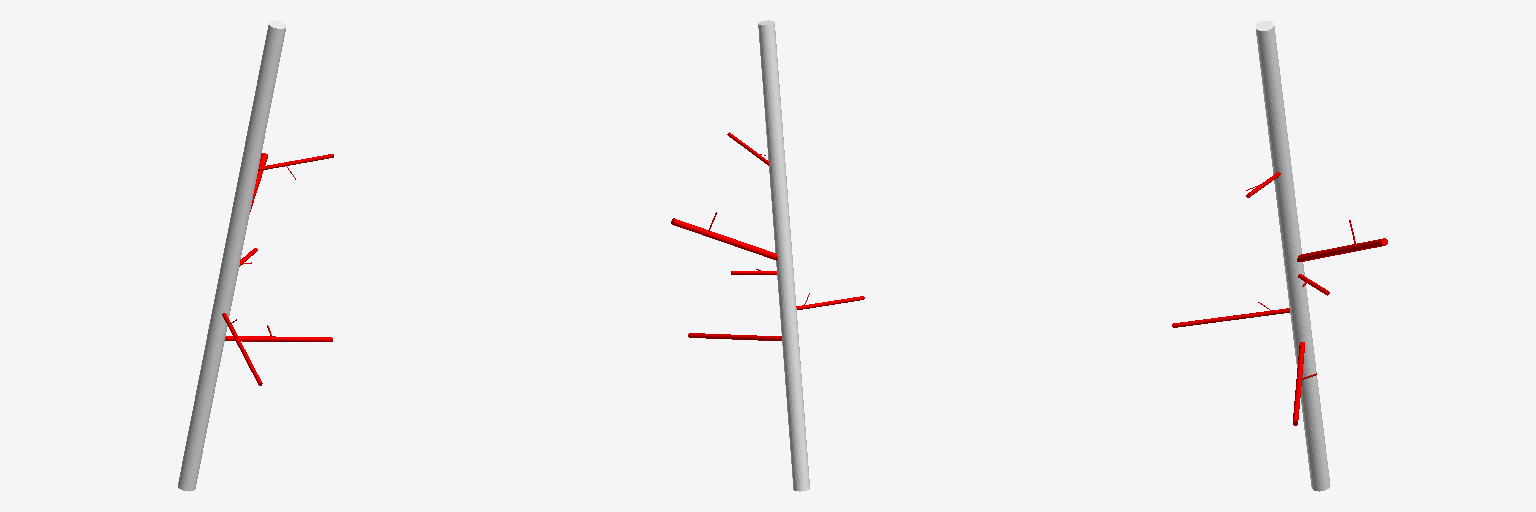
The robot description file, URDF, robot "tree_24.urdf":
<?xml version='1.0' encoding='UTF-8'?>
<robot name="tree_24.urdf">
  <link name="branch_0">
    <inertial>
      <origin xyz="0.0 0.0 0.0" rpy="0.0 -0.0 0.0"/>
      <mass value="0.1"/>
      <inertia ixx="0.001" ixy="0.0" ixz="0.0" iyy="0.001" iyz="0.0" izz="0.001"/>
    </inertial>
    <visual name="branch_0_visual">
      <geometry>
        <cylinder radius="0.19458135033776613" length="11.244107449940579"/>
      </geometry>
      <material name="branch_material"/>
      <origin xyz="0.8020395583961949 -0.5704926320844266 5.535228883249303" rpy="1.1308755512802626e-17 0.17597461131553693 -0.6182712339751238"/>
    </visual>
    <collision name="branch_0_collision">
      <geometry>
        <cylinder radius="0.19458135033776613" length="11.244107449940579"/>
      </geometry>
      <origin xyz="0.8020395583961949 -0.5704926320844266 5.535228883249303" rpy="1.1308755512802626e-17 0.17597461131553693 -0.6182712339751238"/>
    </collision>
  </link>
  <link name="branch_1">
    <inertial>
      <origin xyz="0.0 0.0 0.0" rpy="0.0 -0.0 0.0"/>
      <mass value="0.1"/>
      <inertia ixx="0.001" ixy="0.0" ixz="0.0" iyy="0.001" iyz="0.0" izz="0.001"/>
    </inertial>
    <visual name="branch_1_visual">
      <geometry>
        <cylinder radius="0.04416787841536519" length="1.8604080502072864"/>
      </geometry>
      <material name="semantic_material"/>
      <origin xyz="0.0 0.0 0.0" rpy="0.0 -0.0 0.0"/>
    </visual>
    <collision name="branch_1_collision">
      <geometry>
        <cylinder radius="0.04416787841536519" length="1.8604080502072864"/>
      </geometry>
      <origin xyz="0.0 0.0 0.0" rpy="0.0 -0.0 0.0"/>
    </collision>
  </link>
  <link name="branch_2">
    <inertial>
      <origin xyz="0.0 0.0 0.0" rpy="0.0 -0.0 0.0"/>
      <mass value="0.1"/>
      <inertia ixx="0.001" ixy="0.0" ixz="0.0" iyy="0.001" iyz="0.0" izz="0.001"/>
    </inertial>
    <visual name="branch_2_visual">
      <geometry>
        <cylinder radius="0.010049757263130787" length="0.47792313291636357"/>
      </geometry>
      <material name="semantic_material"/>
      <origin xyz="0.0 0.0 0.0" rpy="0.0 -0.0 0.0"/>
    </visual>
    <collision name="branch_2_collision">
      <geometry>
        <cylinder radius="0.010049757263130787" length="0.47792313291636357"/>
      </geometry>
      <origin xyz="0.0 0.0 0.0" rpy="0.0 -0.0 0.0"/>
    </collision>
  </link>
  <link name="branch_3">
    <inertial>
      <origin xyz="0.0 0.0 0.0" rpy="0.0 -0.0 0.0"/>
      <mass value="0.1"/>
      <inertia ixx="0.001" ixy="0.0" ixz="0.0" iyy="0.001" iyz="0.0" izz="0.001"/>
    </inertial>
    <visual name="branch_3_visual">
      <geometry>
        <cylinder radius="0.047280590478916716" length="2.6960509696505977"/>
      </geometry>
      <material name="semantic_material"/>
      <origin xyz="0.0 0.0 0.0" rpy="0.0 -0.0 0.0"/>
    </visual>
    <collision name="branch_3_collision">
      <geometry>
        <cylinder radius="0.047280590478916716" length="2.6960509696505977"/>
      </geometry>
      <origin xyz="0.0 0.0 0.0" rpy="0.0 -0.0 0.0"/>
    </collision>
  </link>
  <link name="branch_4">
    <inertial>
      <origin xyz="0.0 0.0 0.0" rpy="0.0 -0.0 0.0"/>
      <mass value="0.1"/>
      <inertia ixx="0.001" ixy="0.0" ixz="0.0" iyy="0.001" iyz="0.0" izz="0.001"/>
    </inertial>
    <visual name="branch_4_visual">
      <geometry>
        <cylinder radius="0.010643991521080632" length="0.39430728637992657"/>
      </geometry>
      <material name="semantic_material"/>
      <origin xyz="0.0 0.0 0.0" rpy="0.0 -0.0 0.0"/>
    </visual>
    <collision name="branch_4_collision">
      <geometry>
        <cylinder radius="0.010643991521080632" length="0.39430728637992657"/>
      </geometry>
      <origin xyz="0.0 0.0 0.0" rpy="0.0 -0.0 0.0"/>
    </collision>
  </link>
  <link name="branch_5">
    <inertial>
      <origin xyz="0.0 0.0 0.0" rpy="0.0 -0.0 0.0"/>
      <mass value="0.1"/>
      <inertia ixx="0.001" ixy="0.0" ixz="0.0" iyy="0.001" iyz="0.0" izz="0.001"/>
    </inertial>
    <visual name="branch_5_visual">
      <geometry>
        <cylinder radius="0.07716876848307018" length="2.959013917522111"/>
      </geometry>
      <material name="semantic_material"/>
      <origin xyz="0.0 0.0 0.0" rpy="0.0 -0.0 0.0"/>
    </visual>
    <collision name="branch_5_collision">
      <geometry>
        <cylinder radius="0.07716876848307018" length="2.959013917522111"/>
      </geometry>
      <origin xyz="0.0 0.0 0.0" rpy="0.0 -0.0 0.0"/>
    </collision>
  </link>
  <link name="branch_6">
    <inertial>
      <origin xyz="0.0 0.0 0.0" rpy="0.0 -0.0 0.0"/>
      <mass value="0.1"/>
      <inertia ixx="0.001" ixy="0.0" ixz="0.0" iyy="0.001" iyz="0.0" izz="0.001"/>
    </inertial>
    <visual name="branch_6_visual">
      <geometry>
        <cylinder radius="0.01749284392865312" length="0.5718608438254208"/>
      </geometry>
      <material name="semantic_material"/>
      <origin xyz="0.0 0.0 0.0" rpy="0.0 -0.0 0.0"/>
    </visual>
    <collision name="branch_6_collision">
      <geometry>
        <cylinder radius="0.01749284392865312" length="0.5718608438254208"/>
      </geometry>
      <origin xyz="0.0 0.0 0.0" rpy="0.0 -0.0 0.0"/>
    </collision>
  </link>
  <link name="branch_7">
    <inertial>
      <origin xyz="0.0 0.0 0.0" rpy="0.0 -0.0 0.0"/>
      <mass value="0.1"/>
      <inertia ixx="0.001" ixy="0.0" ixz="0.0" iyy="0.001" iyz="0.0" izz="0.001"/>
    </inertial>
    <visual name="branch_7_visual">
      <geometry>
        <cylinder radius="0.05738743707905556" length="2.8564559471278703"/>
      </geometry>
      <material name="semantic_material"/>
      <origin xyz="0.0 0.0 0.0" rpy="0.0 -0.0 0.0"/>
    </visual>
    <collision name="branch_7_collision">
      <geometry>
        <cylinder radius="0.05738743707905556" length="2.8564559471278703"/>
      </geometry>
      <origin xyz="0.0 0.0 0.0" rpy="0.0 -0.0 0.0"/>
    </collision>
  </link>
  <link name="branch_8">
    <inertial>
      <origin xyz="0.0 0.0 0.0" rpy="0.0 -0.0 0.0"/>
      <mass value="0.1"/>
      <inertia ixx="0.001" ixy="0.0" ixz="0.0" iyy="0.001" iyz="0.0" izz="0.001"/>
    </inertial>
    <visual name="branch_8_visual">
      <geometry>
        <cylinder radius="0.0190280852160967" length="0.40025308719989616"/>
      </geometry>
      <material name="semantic_material"/>
      <origin xyz="0.0 0.0 0.0" rpy="0.0 -0.0 0.0"/>
    </visual>
    <collision name="branch_8_collision">
      <geometry>
        <cylinder radius="0.0190280852160967" length="0.40025308719989616"/>
      </geometry>
      <origin xyz="0.0 0.0 0.0" rpy="0.0 -0.0 0.0"/>
    </collision>
  </link>
  <link name="branch_9">
    <inertial>
      <origin xyz="0.0 0.0 0.0" rpy="0.0 -0.0 0.0"/>
      <mass value="0.1"/>
      <inertia ixx="0.001" ixy="0.0" ixz="0.0" iyy="0.001" iyz="0.0" izz="0.001"/>
    </inertial>
    <visual name="branch_9_visual">
      <geometry>
        <cylinder radius="0.0483584389454339" length="1.2503947766882788"/>
      </geometry>
      <material name="semantic_material"/>
      <origin xyz="0.0 0.0 0.0" rpy="0.0 -0.0 0.0"/>
    </visual>
    <collision name="branch_9_collision">
      <geometry>
        <cylinder radius="0.0483584389454339" length="1.2503947766882788"/>
      </geometry>
      <origin xyz="0.0 0.0 0.0" rpy="0.0 -0.0 0.0"/>
    </collision>
  </link>
  <link name="branch_10">
    <inertial>
      <origin xyz="0.0 0.0 0.0" rpy="0.0 -0.0 0.0"/>
      <mass value="0.1"/>
      <inertia ixx="0.001" ixy="0.0" ixz="0.0" iyy="0.001" iyz="0.0" izz="0.001"/>
    </inertial>
    <visual name="branch_10_visual">
      <geometry>
        <cylinder radius="0.017209622132821525" length="0.27454845349402646"/>
      </geometry>
      <material name="semantic_material"/>
      <origin xyz="0.0 0.0 0.0" rpy="0.0 -0.0 0.0"/>
    </visual>
    <collision name="branch_10_collision">
      <geometry>
        <cylinder radius="0.017209622132821525" length="0.27454845349402646"/>
      </geometry>
      <origin xyz="0.0 0.0 0.0" rpy="0.0 -0.0 0.0"/>
    </collision>
  </link>
  <joint name="joint_0_1" type="fixed">
    <parent link="branch_0"/>
    <child link="branch_1"/>
    <axis xyz="1. 0. 0."/>
    <origin xyz="1.9511505123338506 -1.1289499171099555 7.695730893396408" rpy="0.3064331496882591 1.4324434815775673 -0.07822478277254538"/>
  </joint>
  <joint name="joint_0_3" type="fixed">
    <parent link="branch_0"/>
    <child link="branch_3"/>
    <axis xyz="1. 0. 0."/>
    <origin xyz="0.35766681866414074 -1.725263583472215 3.949522011654015" rpy="-2.538278141978368 1.2893568230089811 1.9941079307883627"/>
  </joint>
  <joint name="joint_0_5" type="fixed">
    <parent link="branch_0"/>
    <child link="branch_5"/>
    <axis xyz="1. 0. 0."/>
    <origin xyz="1.7419507102571445 0.36946126253126543 6.087659104507929" rpy="0.38101258943097527 1.0828684932794495 1.1991554711030705"/>
  </joint>
  <joint name="joint_0_7" type="fixed">
    <parent link="branch_0"/>
    <child link="branch_7"/>
    <axis xyz="1. 0. 0."/>
    <origin xyz="1.9084761404166037 -0.44371880022557064 3.252250139609161" rpy="2.738758605183262 1.3352785896773471 2.6733915184575934"/>
  </joint>
  <joint name="joint_0_9" type="fixed">
    <parent link="branch_0"/>
    <child link="branch_9"/>
    <axis xyz="1. 0. 0."/>
    <origin xyz="1.271613389735821 -0.19491183386857605 5.1463751142629395" rpy="1.404598906124323 1.4051424299359074 1.9701848660809882"/>
  </joint>
  <joint name="joint_1_2" type="fixed">
    <parent link="branch_0"/>
    <child link="branch_2"/>
    <axis xyz="1. 0. 0."/>
    <origin xyz="1.835253306351276 -1.2968214691689421 7.5820249273672005" rpy="-2.001327909914451 0.27975426551302757 3.0552820338587803"/>
  </joint>
  <joint name="joint_3_4" type="fixed">
    <parent link="branch_0"/>
    <child link="branch_4"/>
    <axis xyz="1. 0. 0."/>
    <origin xyz="0.5137897379980116 -1.1152446114712449 4.25259998429548" rpy="0.3262453908405371 -0.878131739433752 1.166341672551357"/>
  </joint>
  <joint name="joint_5_6" type="fixed">
    <parent link="branch_0"/>
    <child link="branch_6"/>
    <axis xyz="1. 0. 0."/>
    <origin xyz="2.0149135424942592 0.6515214833147599 6.593682891008431" rpy="0.037806255818588416 0.37265666400699626 -2.371461392225476"/>
  </joint>
  <joint name="joint_7_8" type="fixed">
    <parent link="branch_0"/>
    <child link="branch_8"/>
    <axis xyz="1. 0. 0."/>
    <origin xyz="1.9206955287130454 -0.26400726146278275 3.3403706739344927" rpy="1.1341993711766691 -0.23960650479317516 3.036023571020158"/>
  </joint>
  <joint name="joint_9_10" type="fixed">
    <parent link="branch_0"/>
    <child link="branch_10"/>
    <axis xyz="1. 0. 0."/>
    <origin xyz="1.2839869717808459 -0.31775293713278685 5.140814026342902" rpy="-1.5841621112356177 0.043722715297482076 -1.9433402598698053"/>
  </joint>
  <material name="branch_material">
    <color rgba="1. 1. 1. 1."/>
  </material>
  <material name="semantic_material">
    <color rgba="1. 0. 0. 1."/>
  </material>
</robot>

--- What the picture shows (computed from the rendered views, not written in the file) ---
Views: 3 orthographic renders of the robot side by side, from view 1: azimuth 30°, elevation 25°; view 2: azimuth 150°, elevation 25°; view 3: azimuth 270°, elevation 25°.
Model tree_24.urdf with 11 links and 10 joints (10 fixed), rooted at branch_0, posed all joints at 0.
Visible links, largest first — view 1: branch_0, branch_7; view 2: branch_0, branch_5; view 3: branch_0, branch_5, branch_3.
Link boxes in pixels (x1,y1,x2,y2): branch_0: [178, 20, 286, 491]; branch_7: [225, 336, 332, 341]; branch_0: [758, 20, 809, 491]; branch_5: [671, 218, 777, 260]; branch_0: [1255, 20, 1330, 491]; branch_5: [1297, 238, 1387, 261]; branch_3: [1172, 308, 1289, 327].
Size in the robot's own frame: 3.51 by 4.39 by 11.14 metres.
Geometry: primitives only (box / cylinder / sphere), no mesh files.